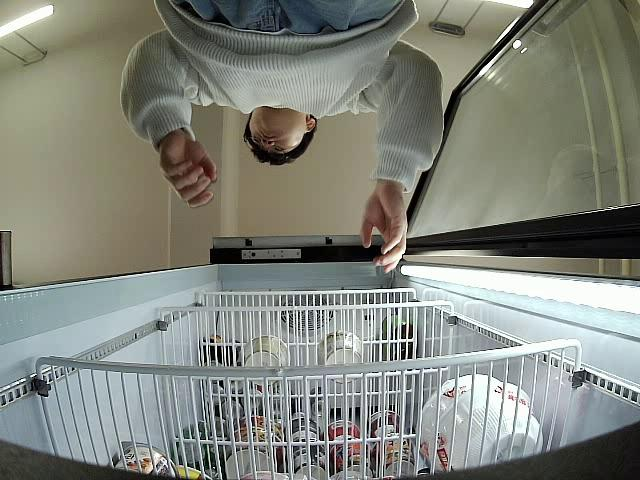00_hand: (156, 129, 223, 210), (361, 184, 411, 275)
